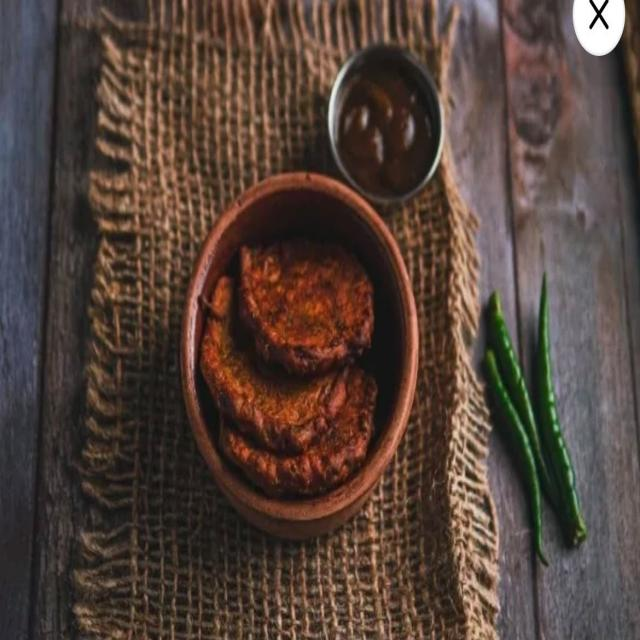Kebab: (192, 188, 407, 526)
